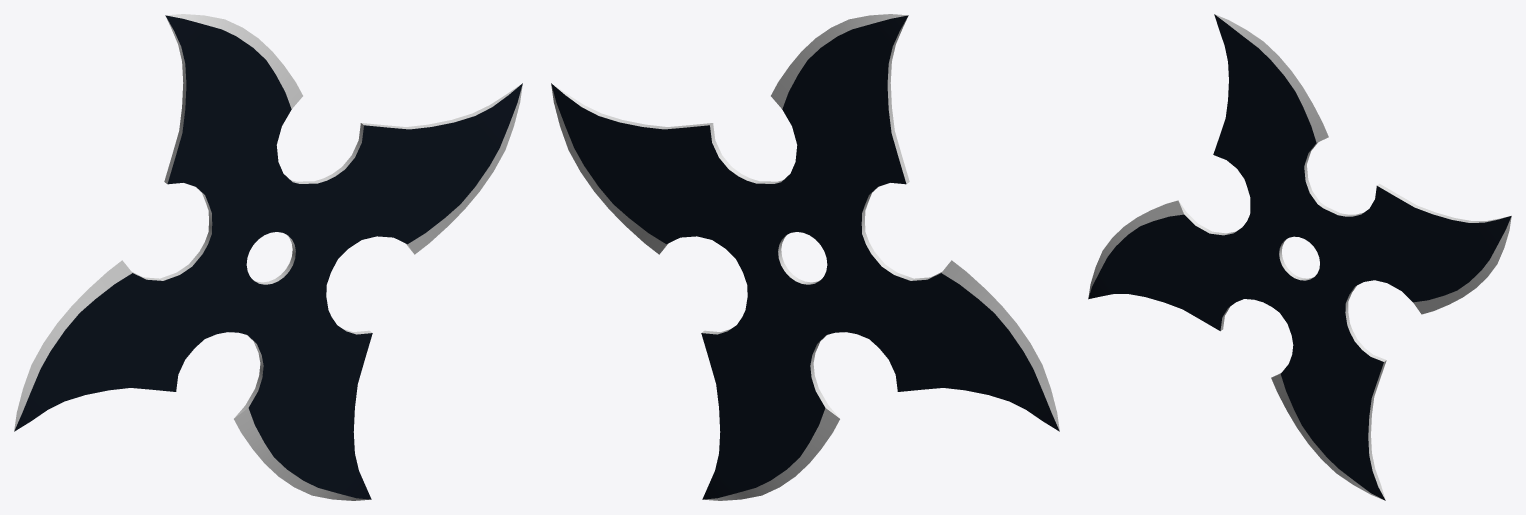
File: shuriken-by-ipoly3d-w0Bl7XGt2w.glb
3 views of the same model, side by side, from view 1: azimuth 30°, elevation 25°; view 2: azimuth 150°, elevation 25°; view 3: azimuth 330°, elevation 25° (orthographic). The views are drawn at different scales.
Parts seen in each view (by area): view 1: Shuriken_17; view 2: Shuriken_17; view 3: Shuriken_17.
Part boxes in pixels (x1,y1,x2,y2): Shuriken_17: (14, 14, 522, 500); Shuriken_17: (551, 14, 1059, 500); Shuriken_17: (1088, 14, 1511, 500).
Bounding box in the file's own units: 2.23 × 2.24 × 0.0247.
